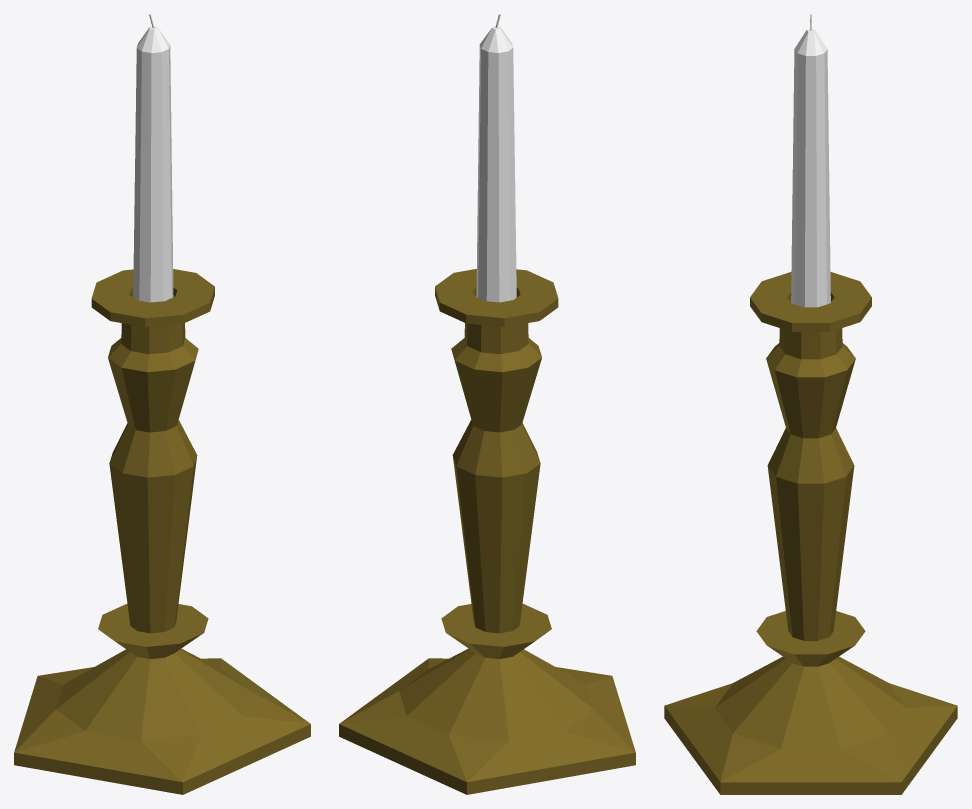
The model's file is candlestick02.obj.
The picture shows the model from 3 angles, left to right: view 1: azimuth 30°, elevation 25°; view 2: azimuth 150°, elevation 25°; view 3: azimuth 270°, elevation 25°; orthographic projection.
Visible parts, largest first — view 1: Cylinder; view 2: Cylinder; view 3: Cylinder.
Part boxes in pixels (x1,y1,x2,y2): Cylinder: (14,14,310,794); Cylinder: (339,14,635,794); Cylinder: (664,14,957,794).
Bounding box in the file's own units: 0.1167 × 0.3178 × 0.1167.
